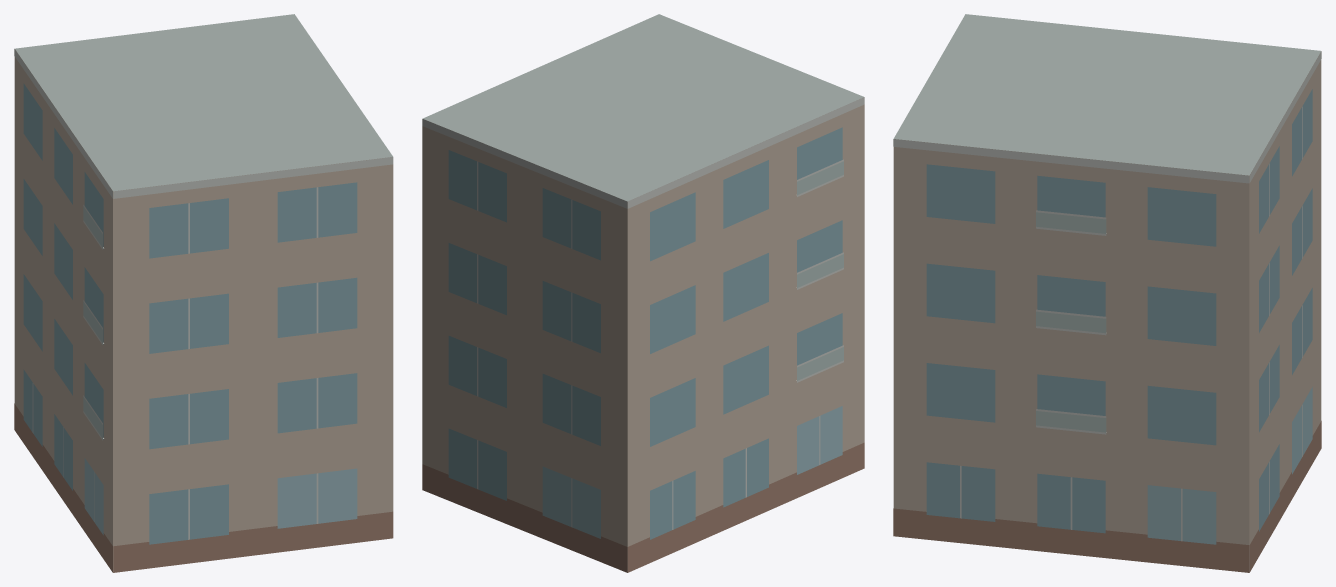
The model's file is residential-b9148751-86e7-4862-9025-66f9b6075632.glb.
3 renders of one model, left to right at view 1: azimuth 30°, elevation 25°; view 2: azimuth 150°, elevation 25°; view 3: azimuth 270°, elevation 25°, orthographic. The views are drawn at different scales.
Parts seen in each view (by area): view 1: residential-b9148751-86e7-4862-9025-66f9b6075632.tmp; view 2: residential-b9148751-86e7-4862-9025-66f9b6075632.tmp; view 3: residential-b9148751-86e7-4862-9025-66f9b6075632.tmp.
Boxes of the visible parts, <box> form: residential-b9148751-86e7-4862-9025-66f9b6075632.tmp: <box>14,14,393,572</box>; residential-b9148751-86e7-4862-9025-66f9b6075632.tmp: <box>422,14,864,572</box>; residential-b9148751-86e7-4862-9025-66f9b6075632.tmp: <box>893,14,1321,572</box>.
Size of the model in its own units: 10.65 by 12.2 by 11.92.
